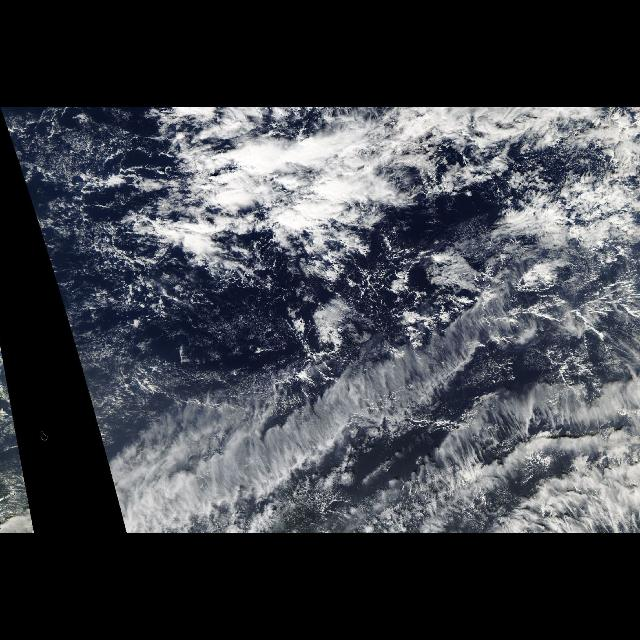Gravel: (198, 250, 472, 364)
